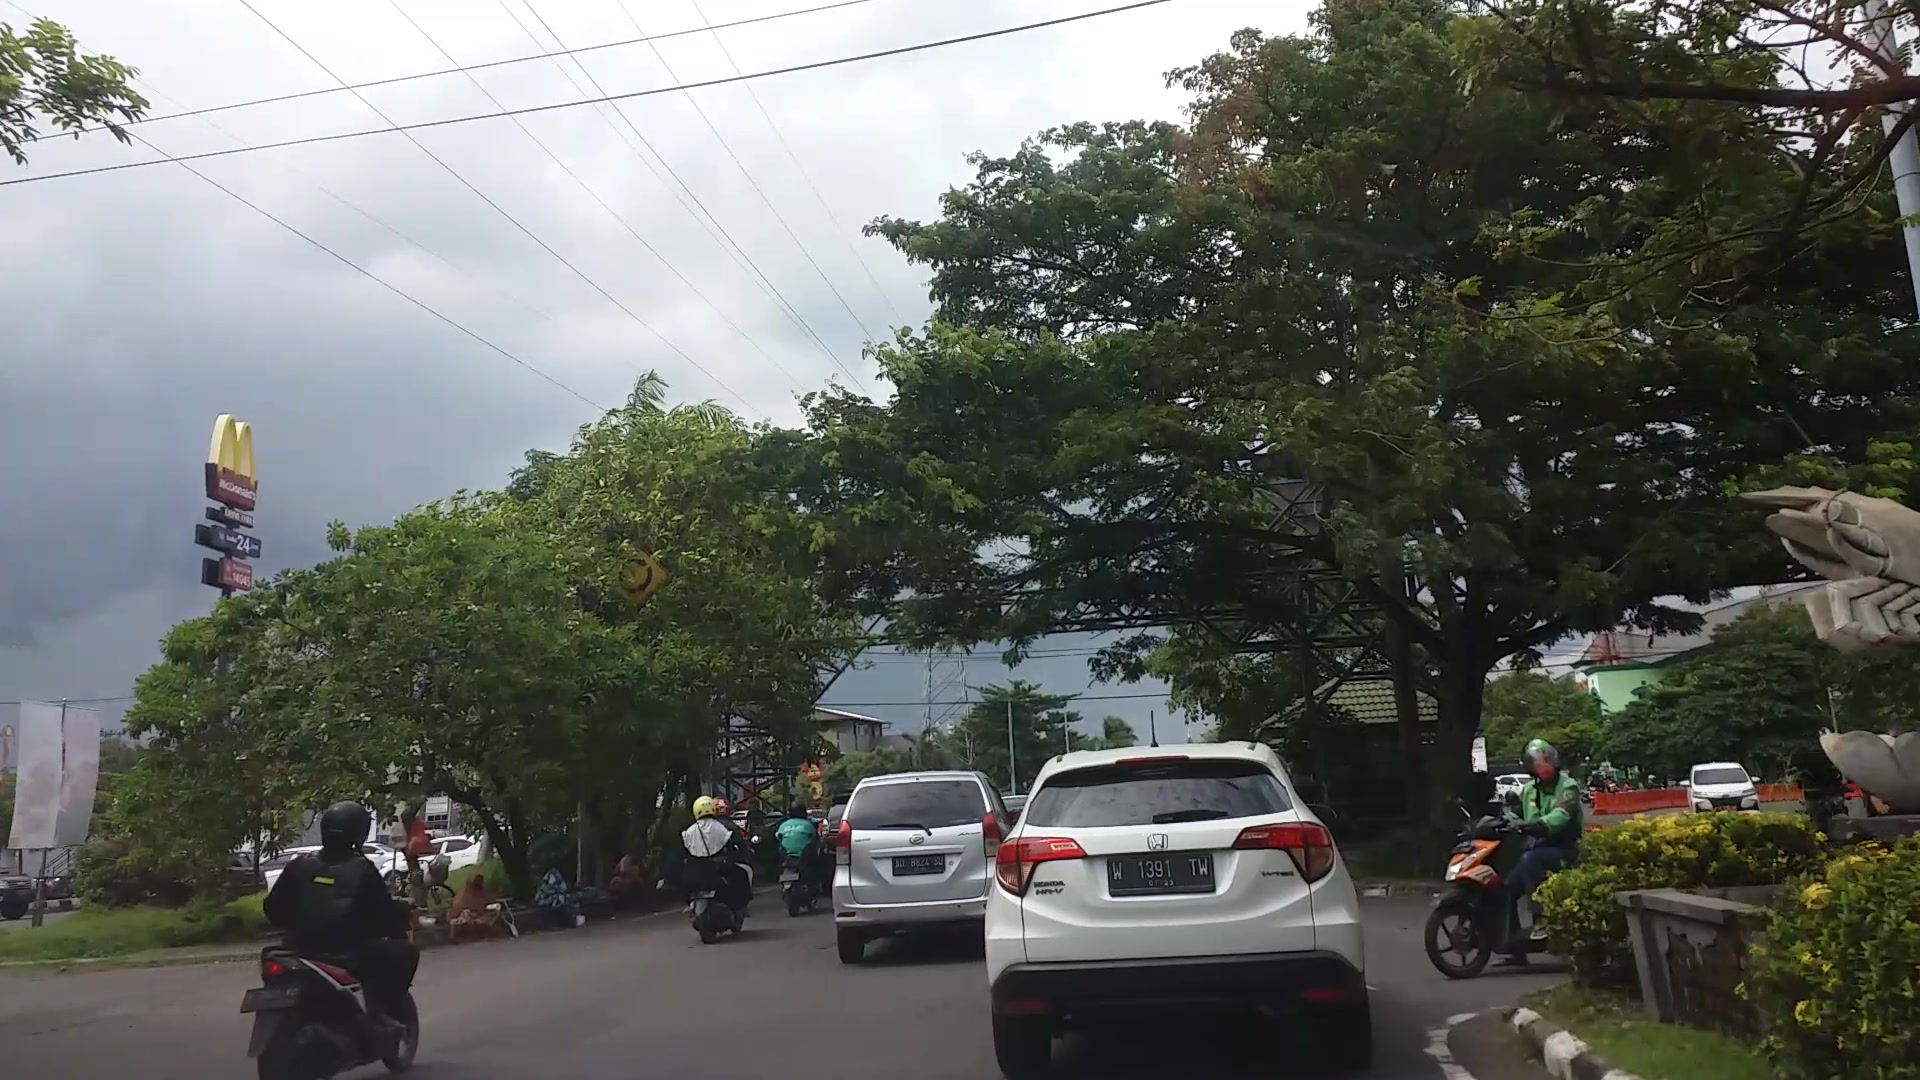plate_positive: (1106, 855, 1216, 895)
